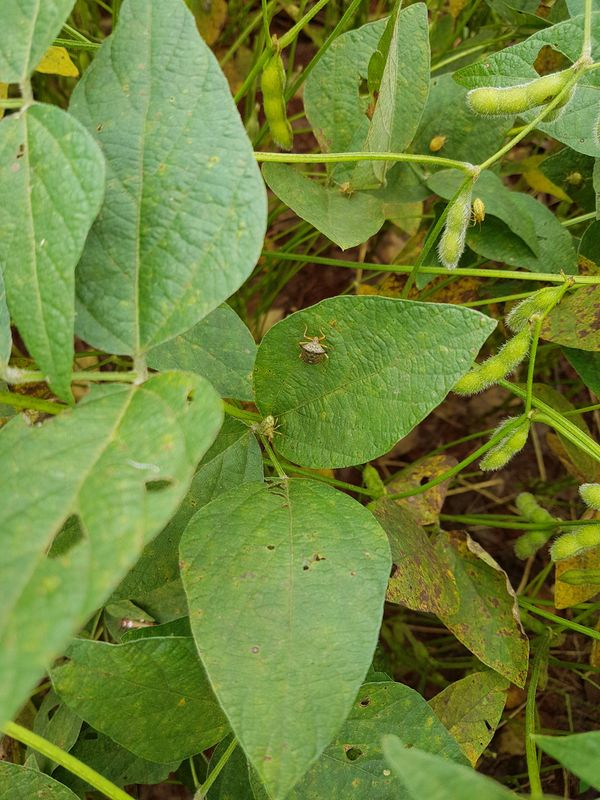Euschistus_heros_adulto: (293, 322, 336, 373)
Euschistus_heros_ninfa: (251, 409, 289, 446), (459, 193, 493, 232), (425, 130, 451, 156), (560, 167, 586, 193)
